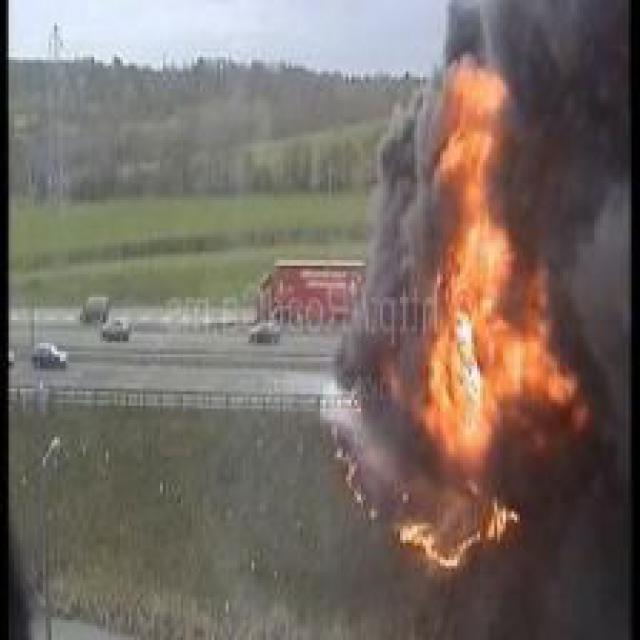fire: (380, 57, 597, 532)
